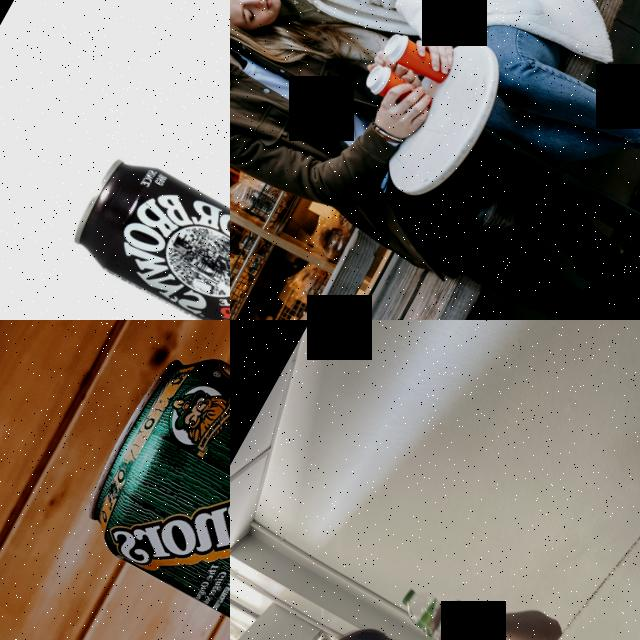bottle: (385, 582, 496, 640)
can: (67, 332, 230, 640), (59, 142, 230, 320)
cup: (379, 27, 456, 90), (361, 60, 438, 122)
